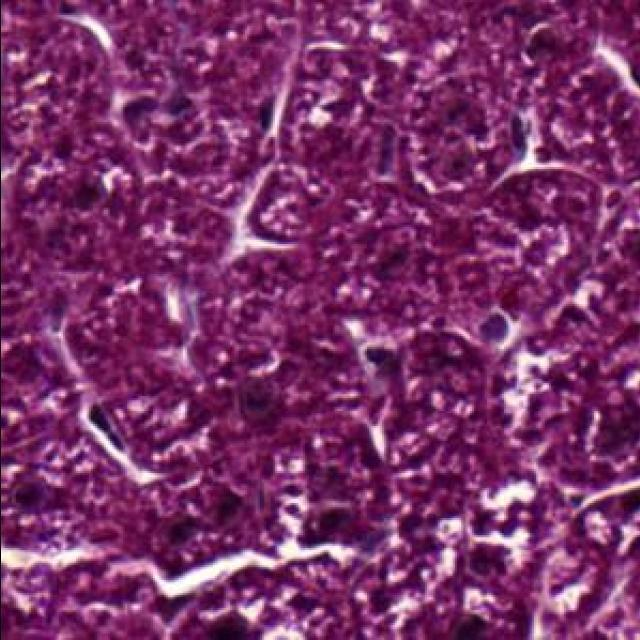inflammation: (234, 370, 289, 431), (297, 508, 351, 546), (205, 486, 250, 528), (89, 404, 128, 451), (206, 610, 258, 640), (11, 472, 50, 511), (155, 514, 199, 546), (469, 544, 508, 576), (122, 96, 159, 123), (510, 111, 529, 160), (452, 615, 488, 640), (555, 301, 591, 326), (480, 314, 510, 343), (359, 341, 396, 363), (165, 90, 191, 114), (259, 96, 272, 133)
